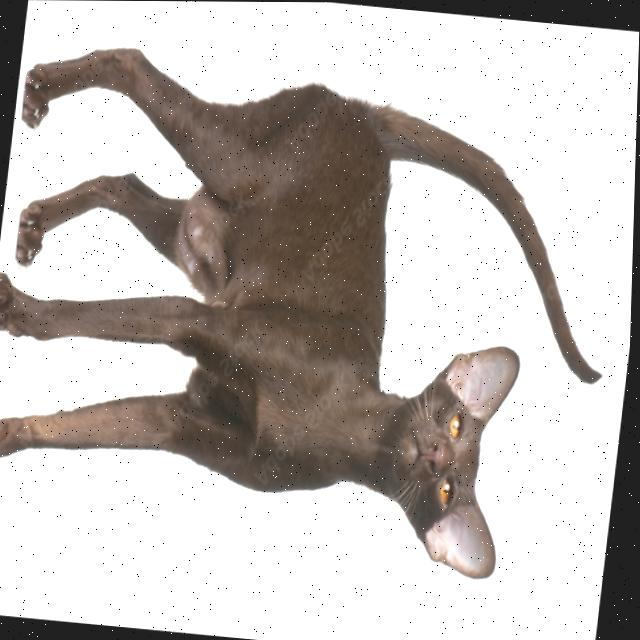Oriental: (0, 29, 639, 595)
